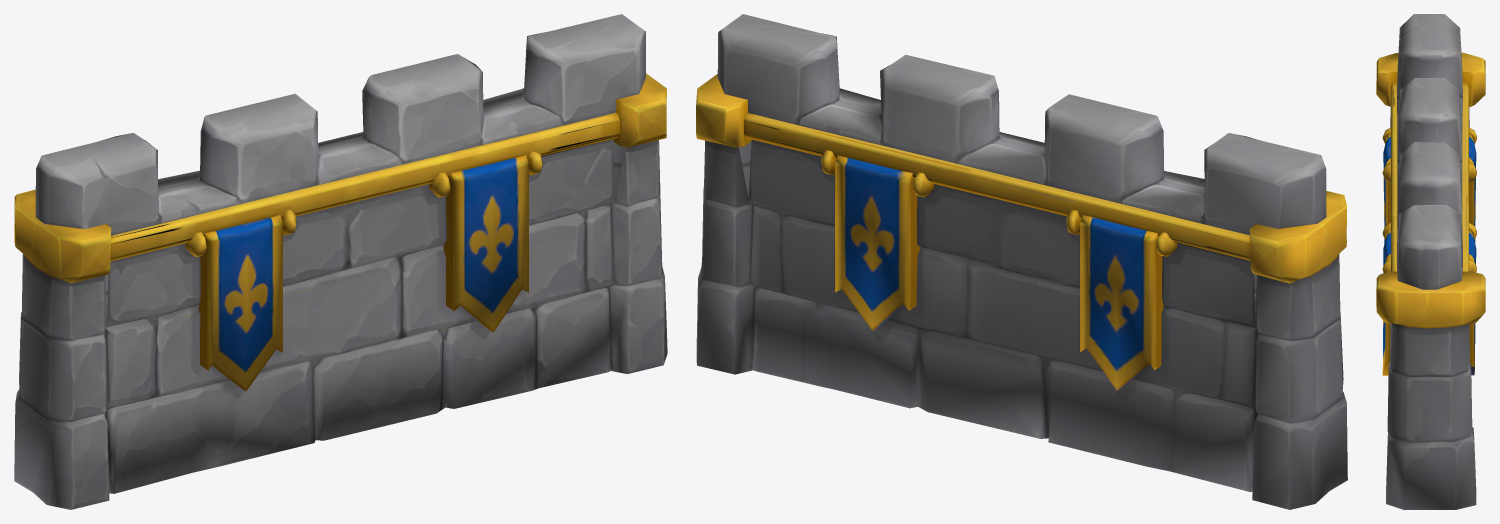
The model's file is rempart_pierre.glb.
3 views of the same model, side by side, from view 1: azimuth 30°, elevation 25°; view 2: azimuth 150°, elevation 25°; view 3: azimuth 270°, elevation 25° (orthographic). The views are drawn at different scales.
Visible parts, largest first — view 1: geometry_0; view 2: geometry_0; view 3: geometry_0.
Boxes of the visible parts, x1=… form: geometry_0: x1=14, y1=14, x2=667, y2=509; geometry_0: x1=696, y1=14, x2=1347, y2=509; geometry_0: x1=1376, y1=14, x2=1485, y2=509.
Bounding box in the file's own units: 0.9556 × 0.479 × 0.1816.
1 material, 1 textured.
